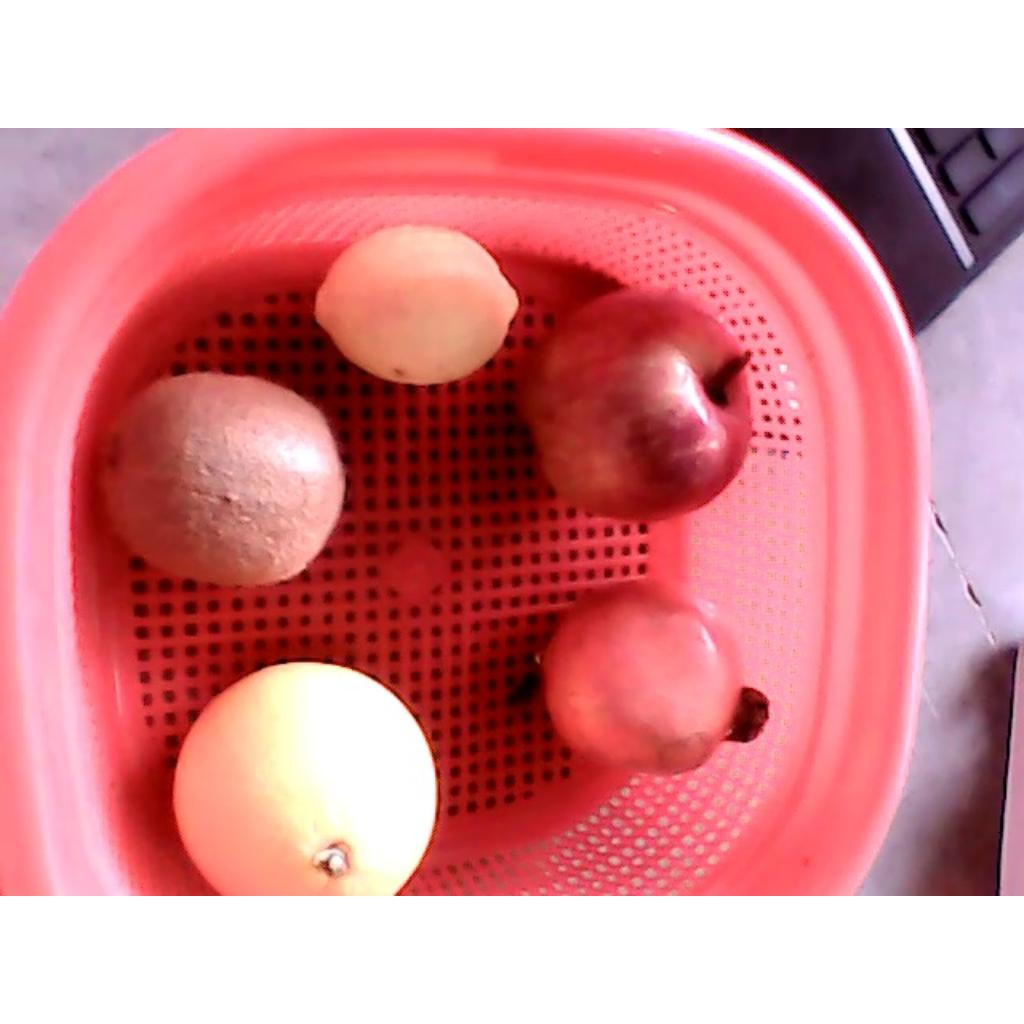apple: (517, 283, 755, 521)
kiwi: (92, 369, 344, 587)
lemon: (319, 223, 525, 385)
orange: (175, 660, 437, 892)
pomegranate: (537, 574, 768, 776)
